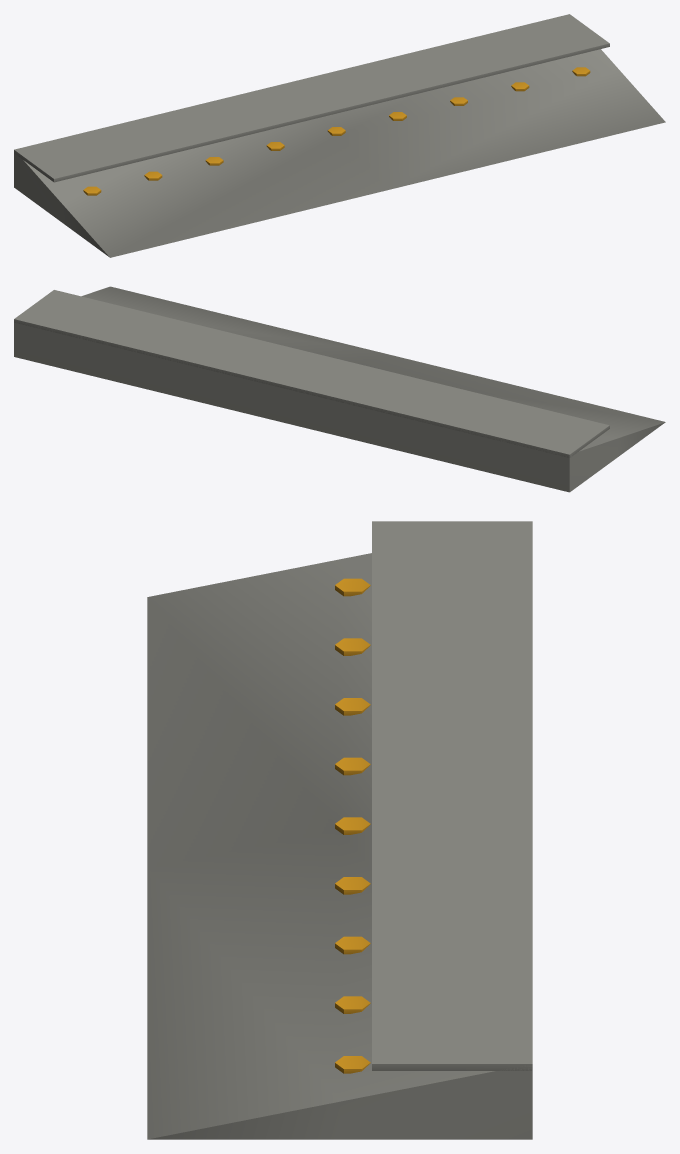
The model's file is curb_ramp.glb.
3 renders of one model, top to bottom at view 1: azimuth 30°, elevation 25°; view 2: azimuth 150°, elevation 25°; view 3: azimuth 270°, elevation 25°, orthographic. The views are drawn at different scales.
Parts seen in each view (by area): view 1: curb_ramp; view 2: curb_ramp; view 3: curb_ramp.
Boxes of the visible parts, left/top/right/bottom form: curb_ramp: left=14, top=14, right=665, bottom=257; curb_ramp: left=14, top=286, right=665, bottom=492; curb_ramp: left=147, top=521, right=532, bottom=1139.
Size of the model in its own units: 2 by 0.13 by 0.6.
